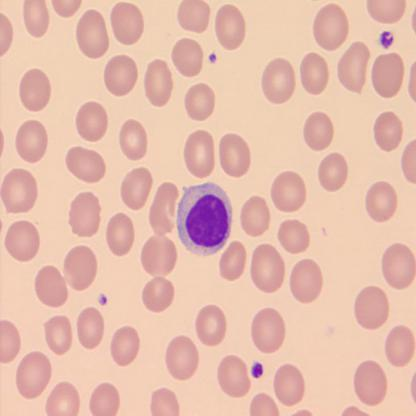Lymphocyte: (176, 180, 233, 258)
